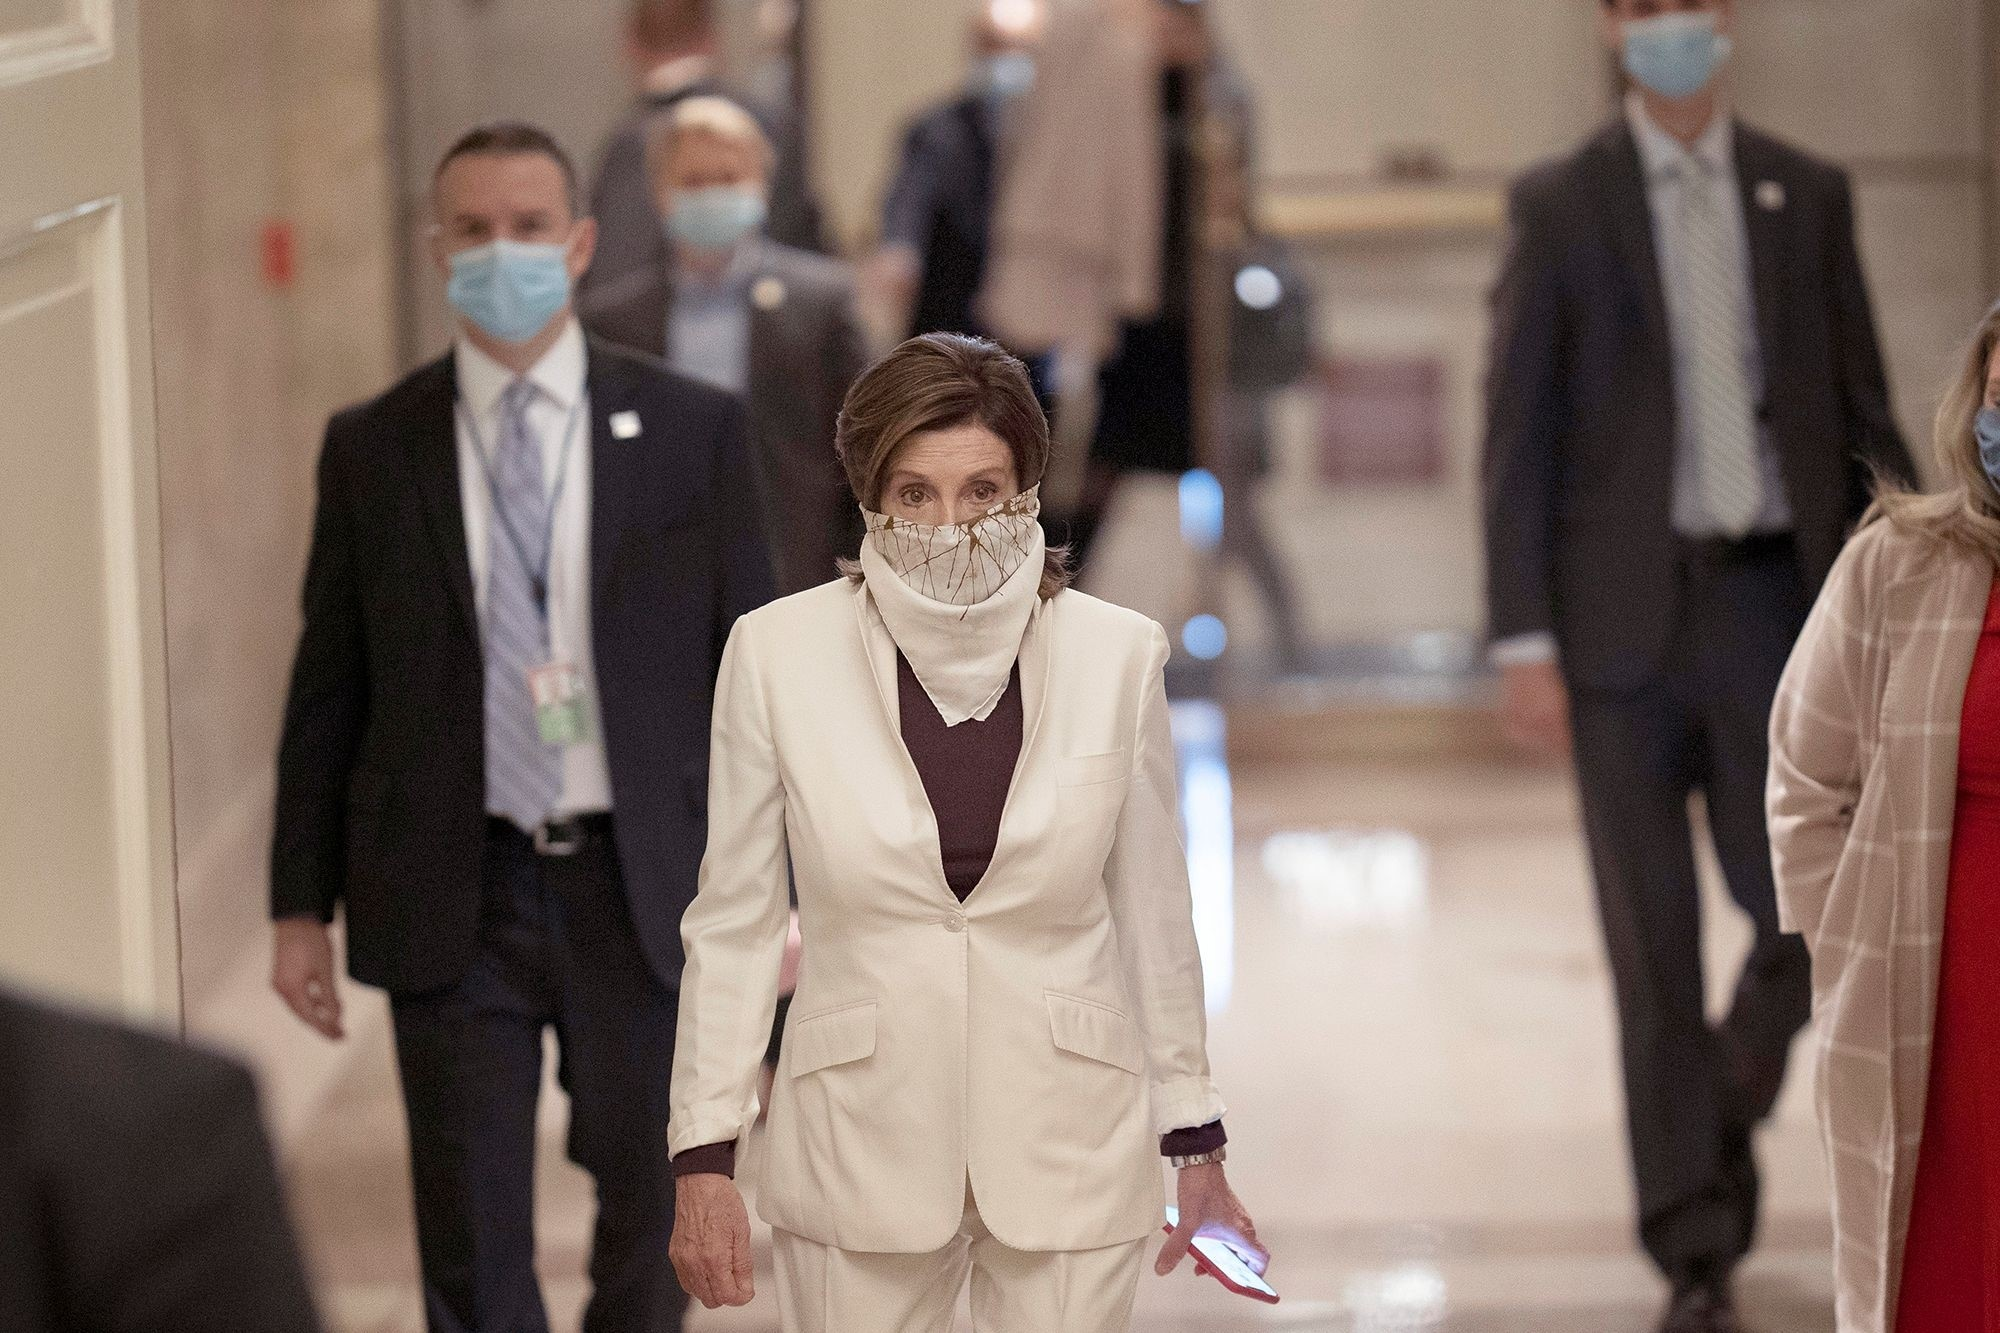face_with_mask: (833, 334, 1049, 637), (436, 115, 590, 339), (646, 100, 772, 256), (1598, 1, 1730, 110)
